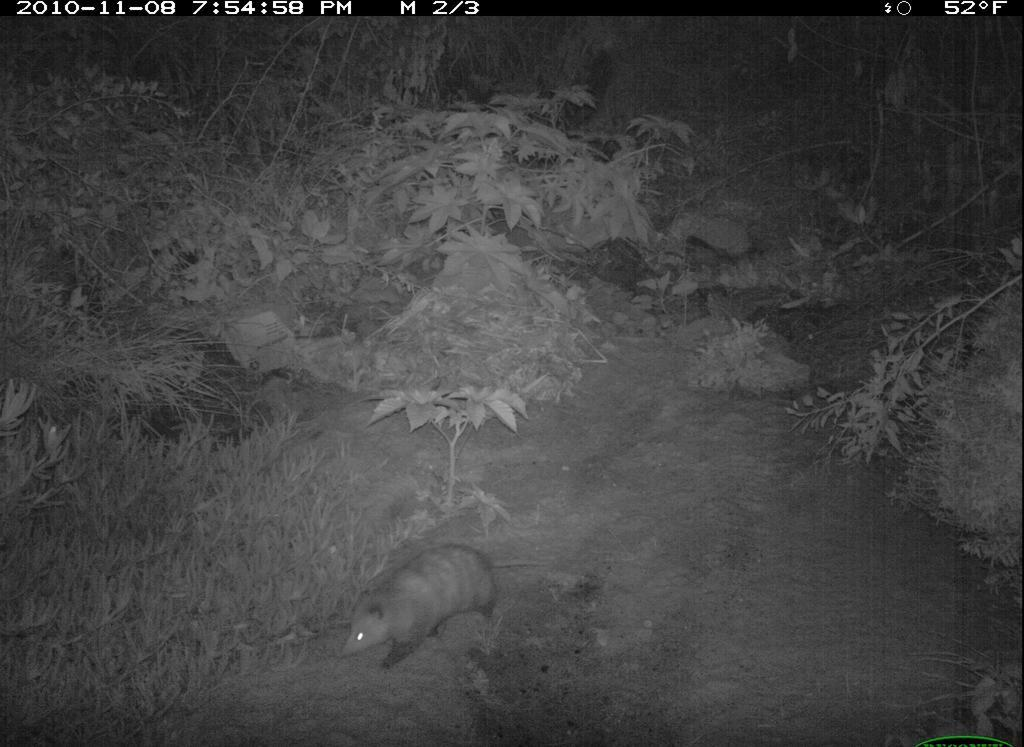opossum: (334, 543, 555, 680)
